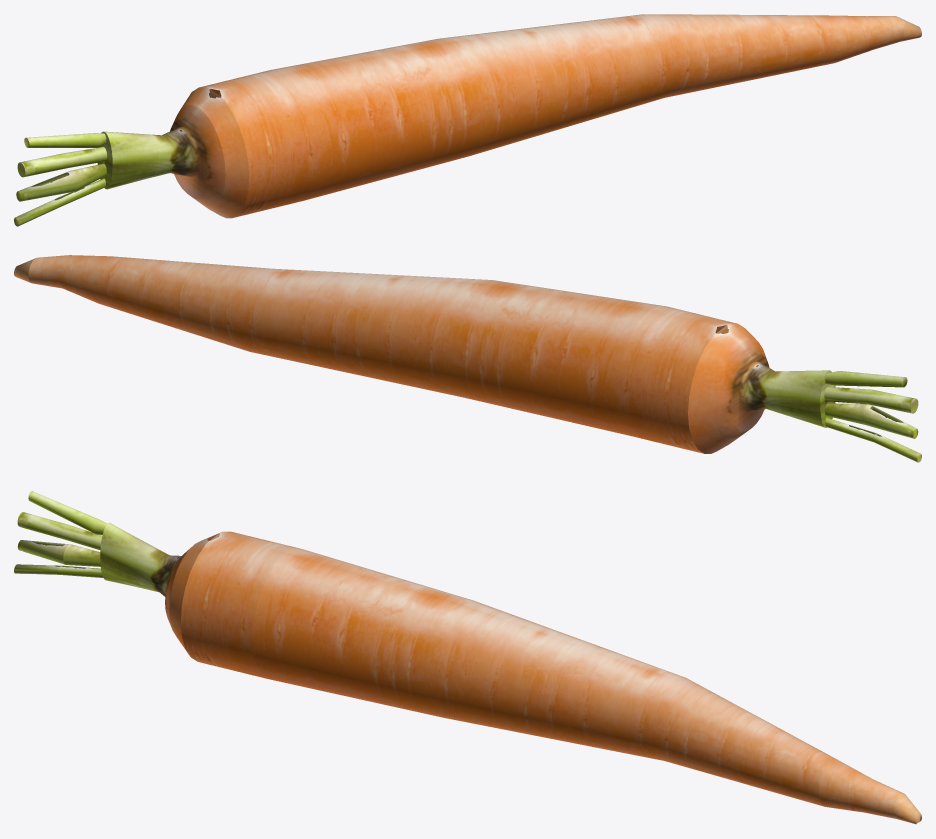
File: carrot.dae
3 renders of one model, top to bottom at view 1: azimuth 30°, elevation 25°; view 2: azimuth 150°, elevation 25°; view 3: azimuth 330°, elevation 25°, orthographic.
Parts seen in each view (by area): view 1: SketchUp (×6); view 2: SketchUp (×6); view 3: SketchUp (×6).
Part boxes in pixels (<box>): SketchUp (×6): <box>14,14,921,226</box>; SketchUp (×6): <box>14,255,921,462</box>; SketchUp (×6): <box>14,491,921,824</box>.
Size of the model in its own units: 19.61 by 2.53 by 2.53.
1 material, 1 textured.
